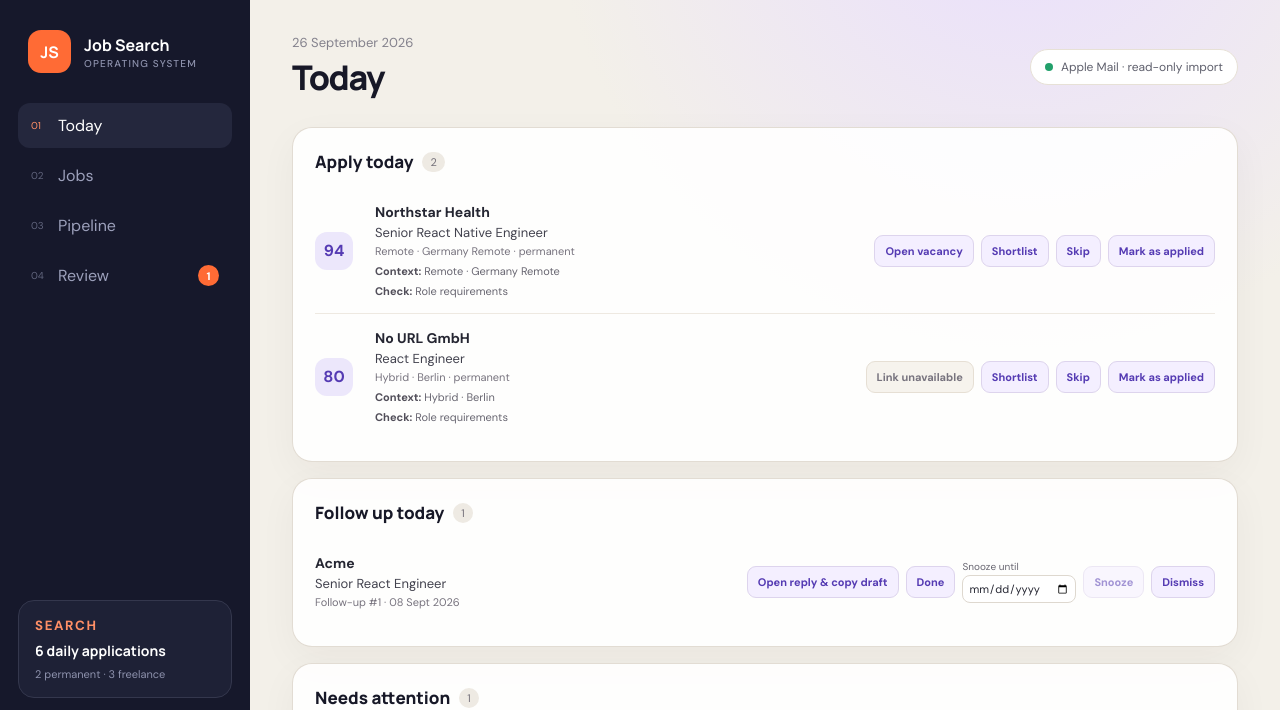
Test: App › an unavailable baseline read blocks POST and does not offer an ineffective recovery Retry
Expected: the heading "Today" is shown, [292,54,384,100]
Click the button "02 Jobs": [125, 176] box [18,153,232,198]
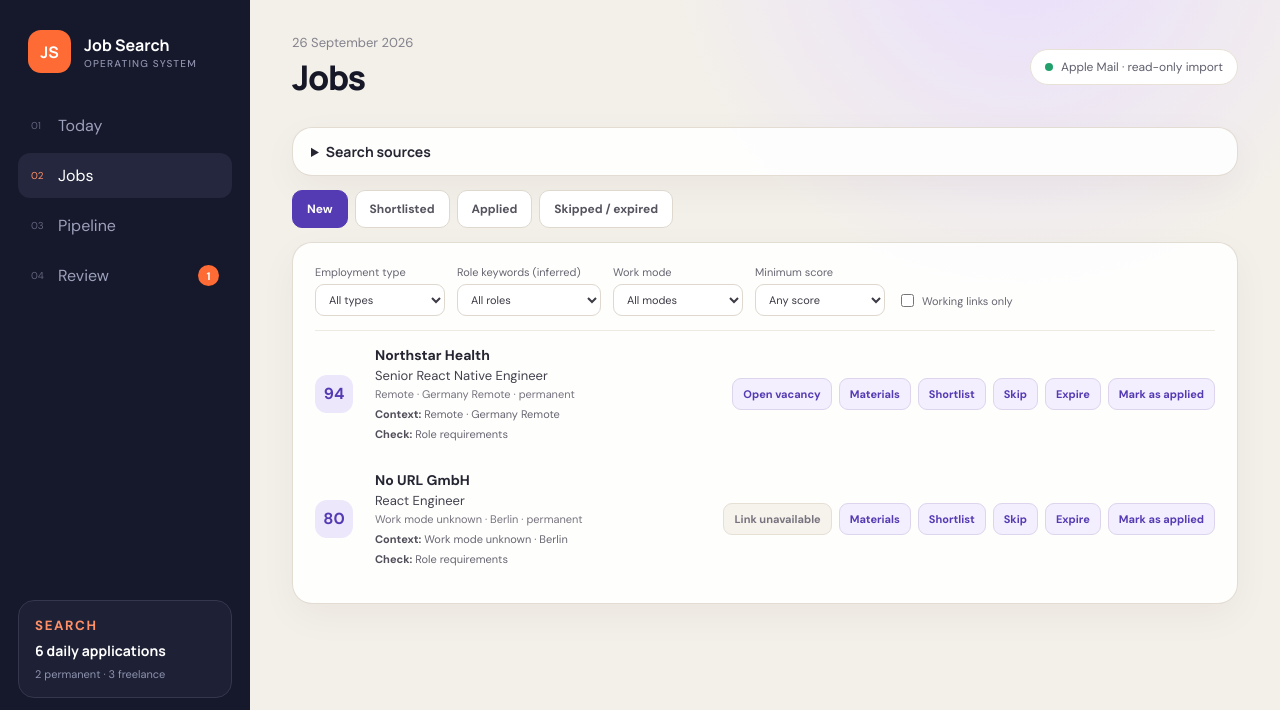
Click the button with aria-label "Materials for Northstar Health Senior React Native Engineer": [875, 394] box [839,378,911,410]
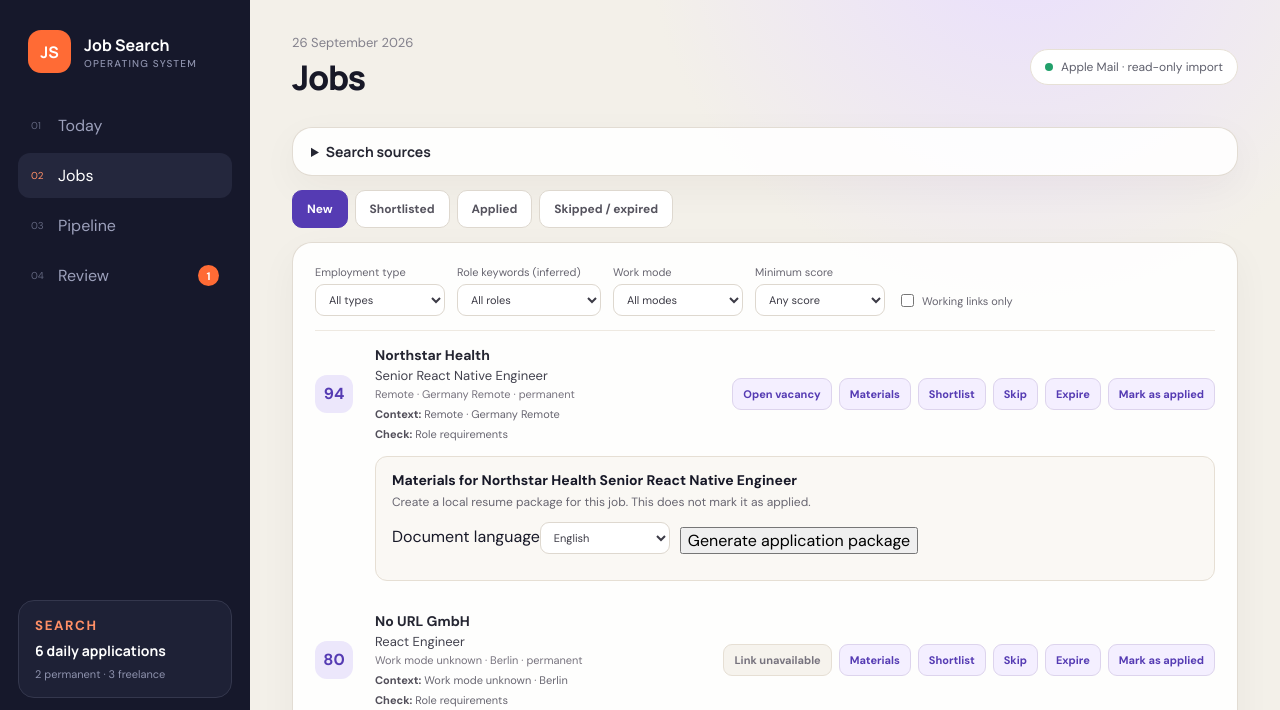
Click the button "Generate application package": [799, 540] box [680,527,918,554]
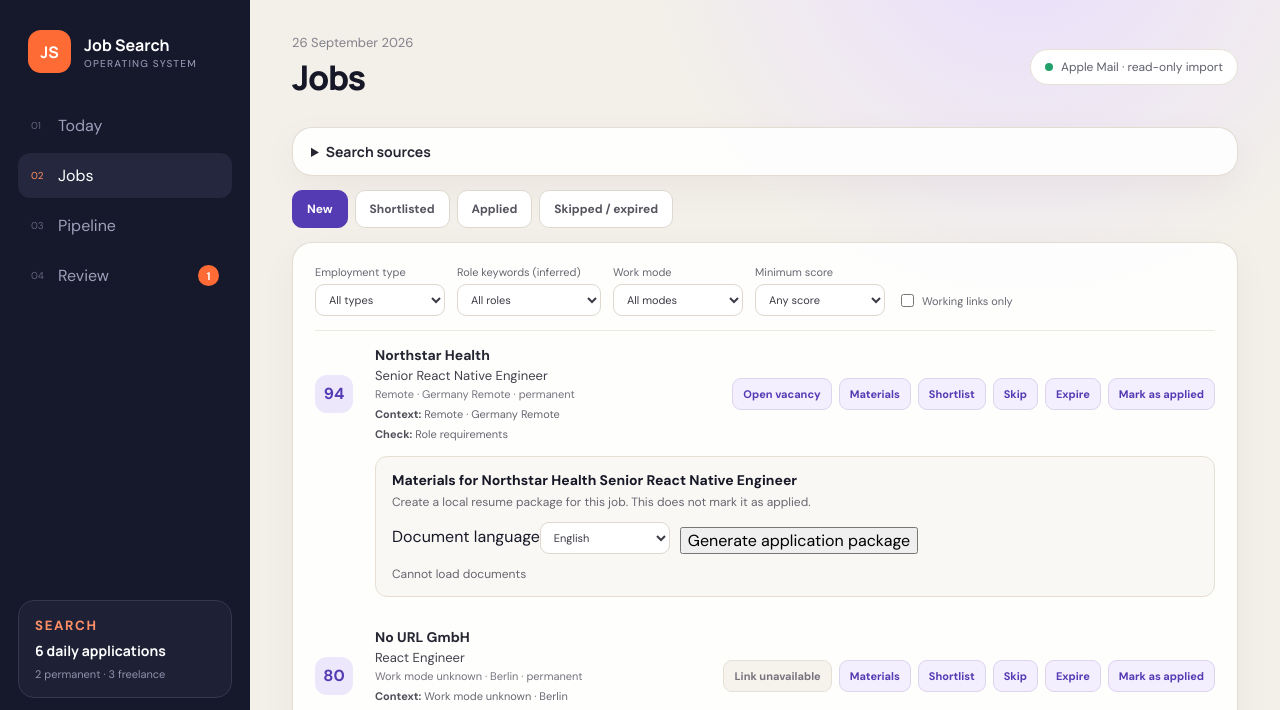
Expected: the button "Generate application package" is enabled, [680,527,918,554]
Expected: the message reads "Cannot load documents", [392,566,526,582]
